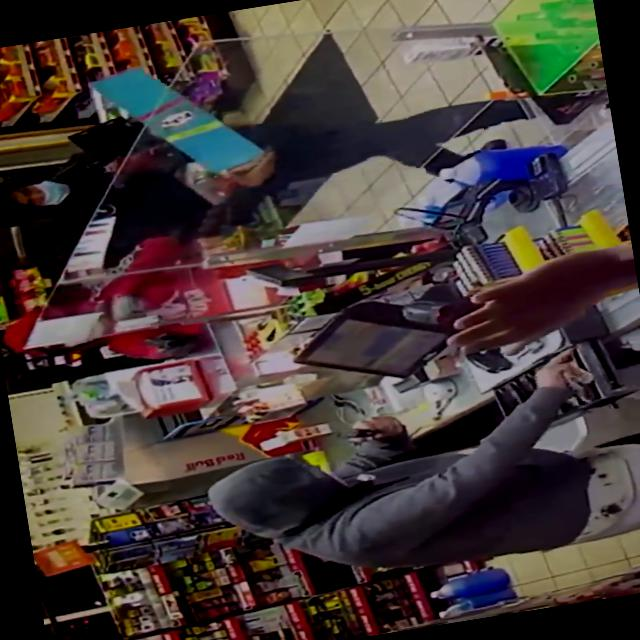handgun: (326, 410, 406, 452)
